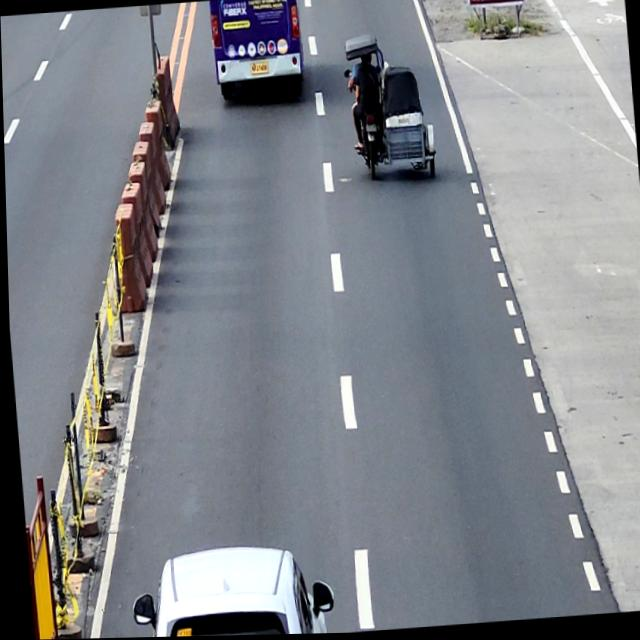Bus: (208, 0, 306, 102)
Car: (124, 540, 332, 638)
License-Plate: (249, 60, 269, 77), (365, 124, 377, 135)
Tricycle: (339, 29, 439, 187)
